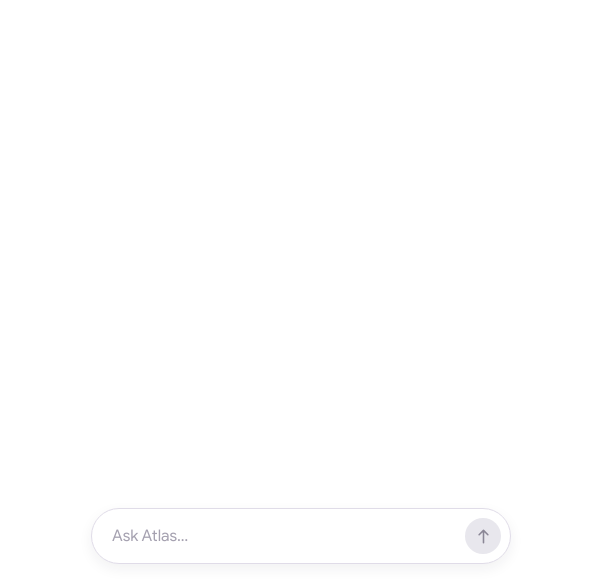
Test case: questions and sources › uses configured assistant text and preserves drafts when collapsed
Type "A draft" into the text box with placeholder "Ask Atlas…".
click(282, 536); type("A draft")  # box [112,516,453,556]
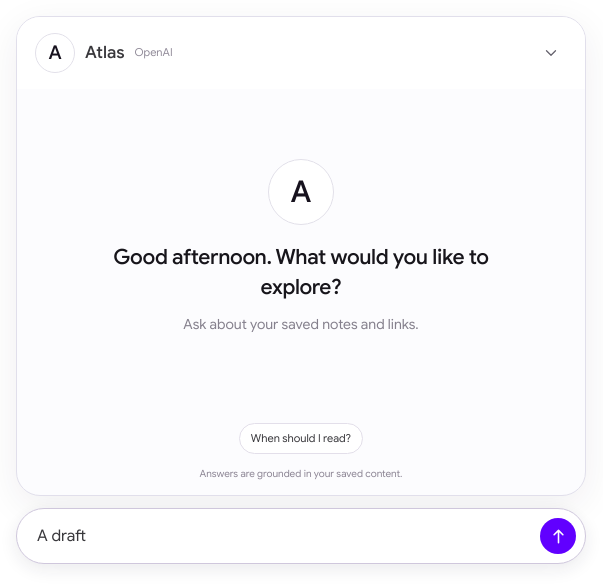
Expected: the text "Atlas" is shown, [85,39,124,67]
Expected: the heading "Good afternoon. What would you like to explore?" is shown, [81,243,521,302]
Click the button named "Collapse chat".
click(551, 53)  # box [535,37,567,69]
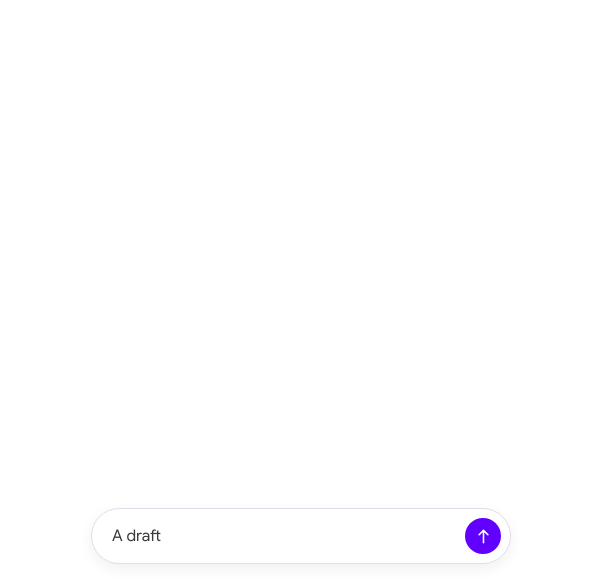
Expected: the text "Atlas" is gone
Click the text box.
click(282, 536)  # box [112,516,453,556]
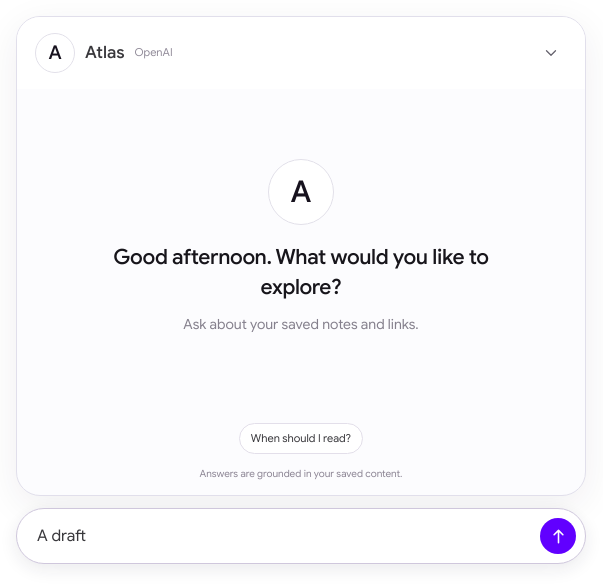
Expected: the text "Atlas" is shown, [85,39,124,67]
